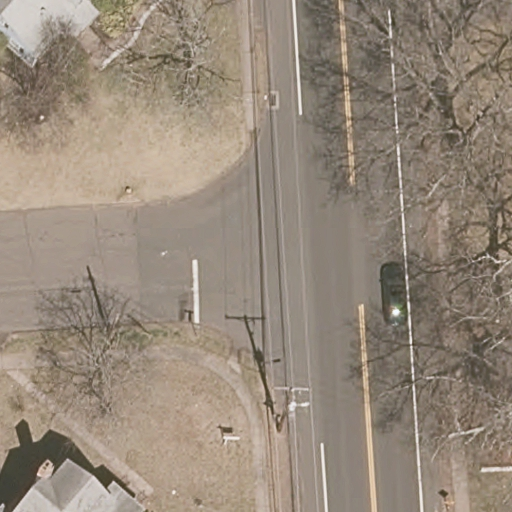DT: (271, 383, 310, 434)
